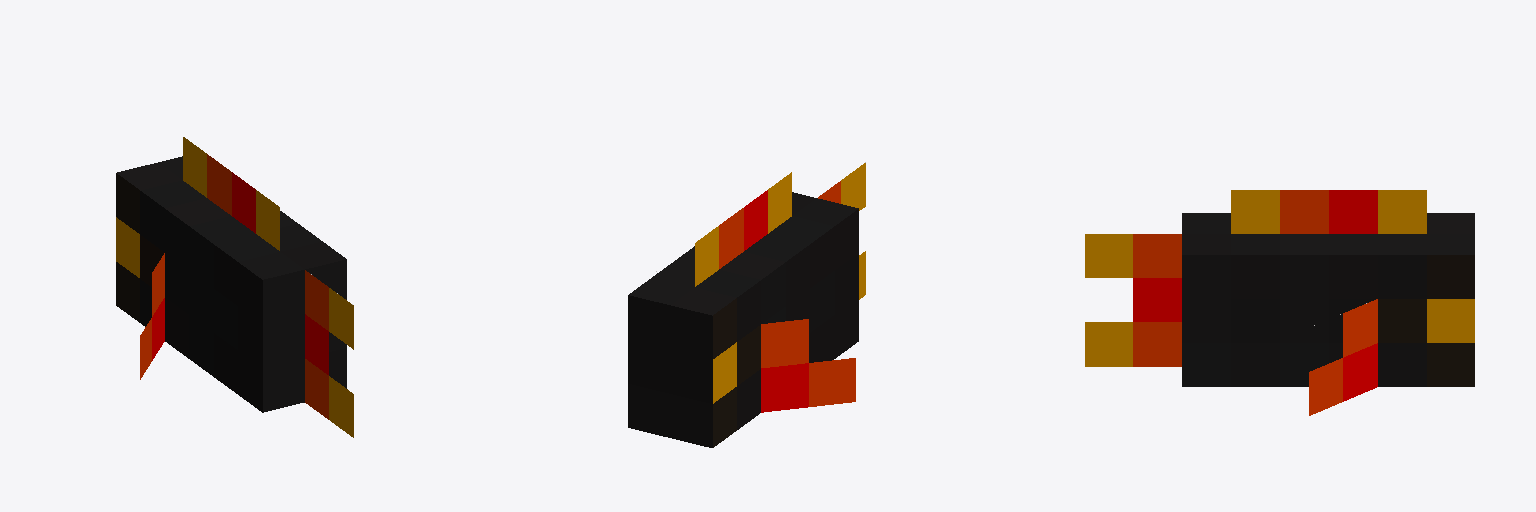
The picture shows the model from 3 angles: view 1: azimuth 30°, elevation 25°; view 2: azimuth 150°, elevation 25°; view 3: azimuth 270°, elevation 25°; orthographic projection.
Visible parts, largest first — view 1: cube; view 2: cube; view 3: cube.
Part boxes in pixels (bbox=[...]): cube: bbox=[116, 137, 353, 437]; cube: bbox=[628, 162, 865, 447]; cube: bbox=[1085, 190, 1474, 415].
Bounding box in the file's own units: 0.3018 × 0.3125 × 0.5.
Materials: 2 (1 with a texture image).